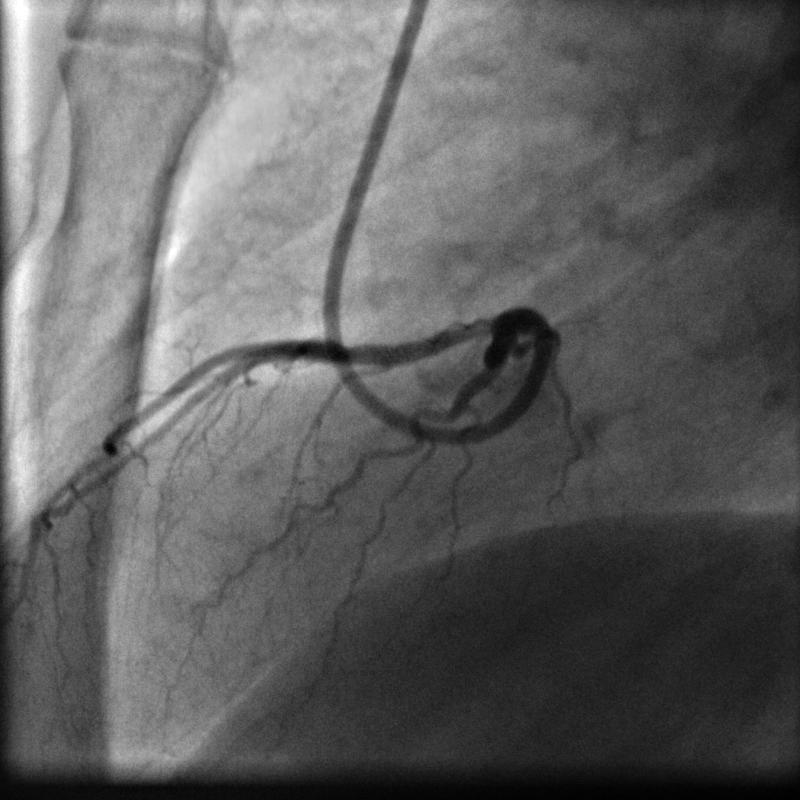Stenosis: (342, 340, 367, 366)
